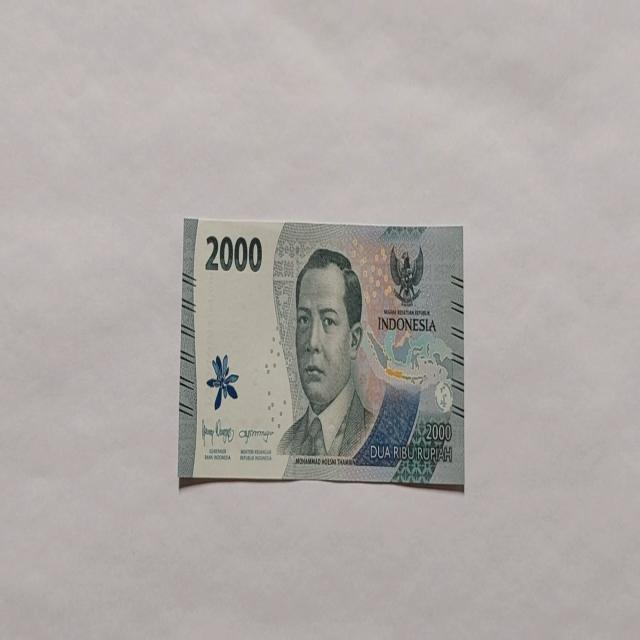dua ribu rupiah: (178, 216, 464, 488), (276, 246, 376, 469)
